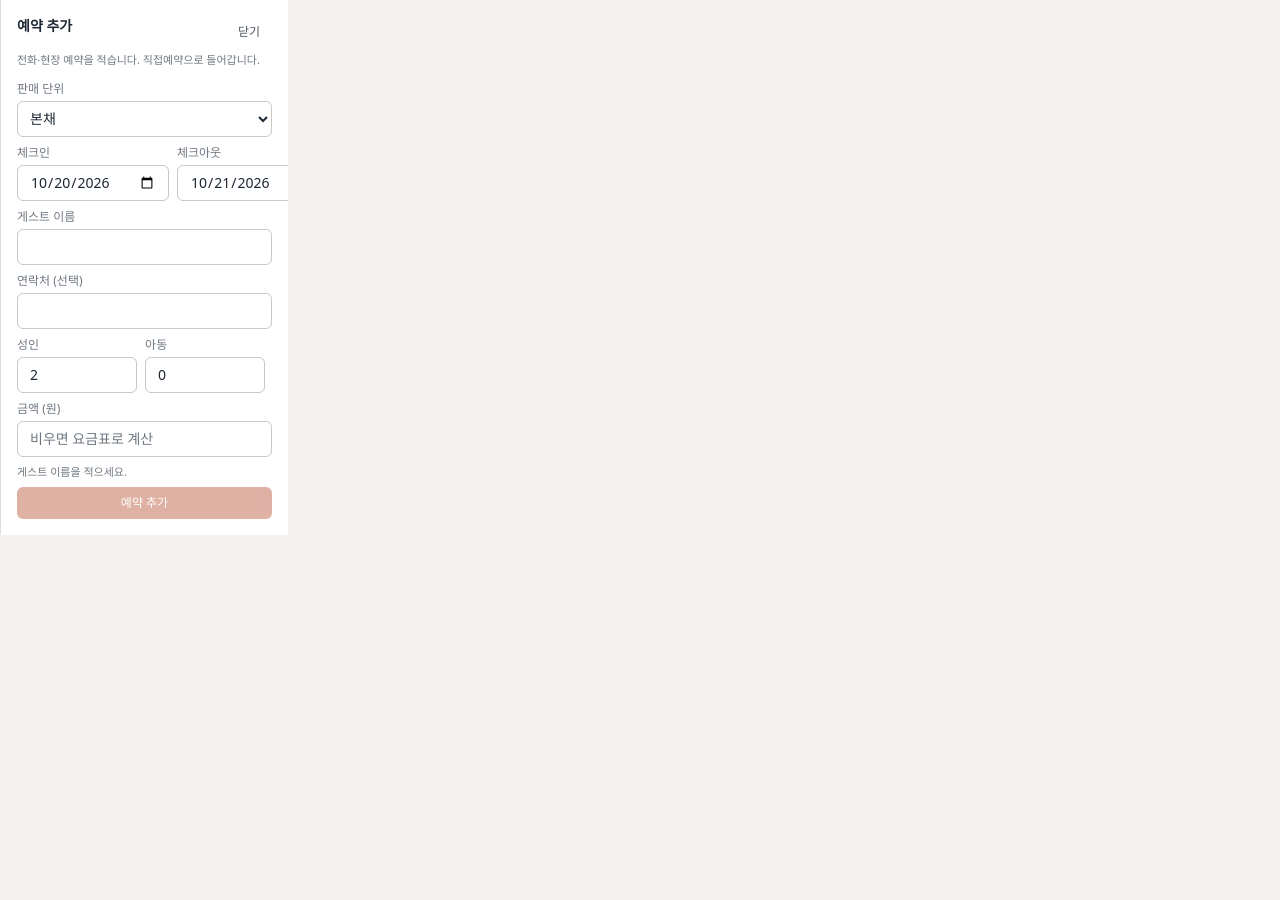
Test: 예약 추가 › 금액을 비우면 totalAmount null 로 보내고, 확인 단계 뒤에만 보낸다
Select "별채" in the dropdown with test id "new-reservation-unit": (144, 118) [17, 100, 272, 136]
In the date field with test id "new-reservation-check-in": (93, 182) [17, 164, 169, 200], type "2027-03-05"
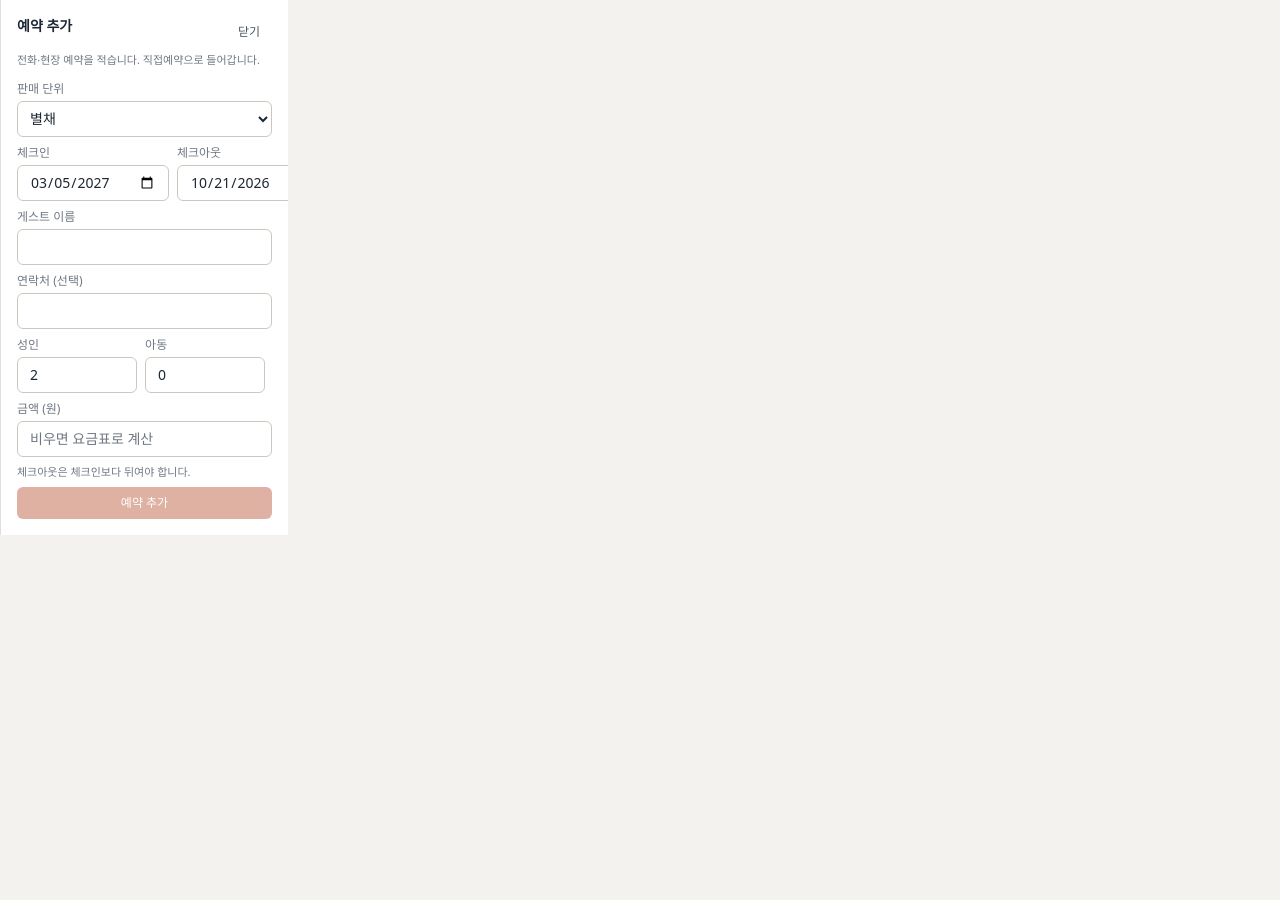
In the date field with test id "new-reservation-check-out": (253, 182) [177, 164, 329, 200], type "2027-03-07"
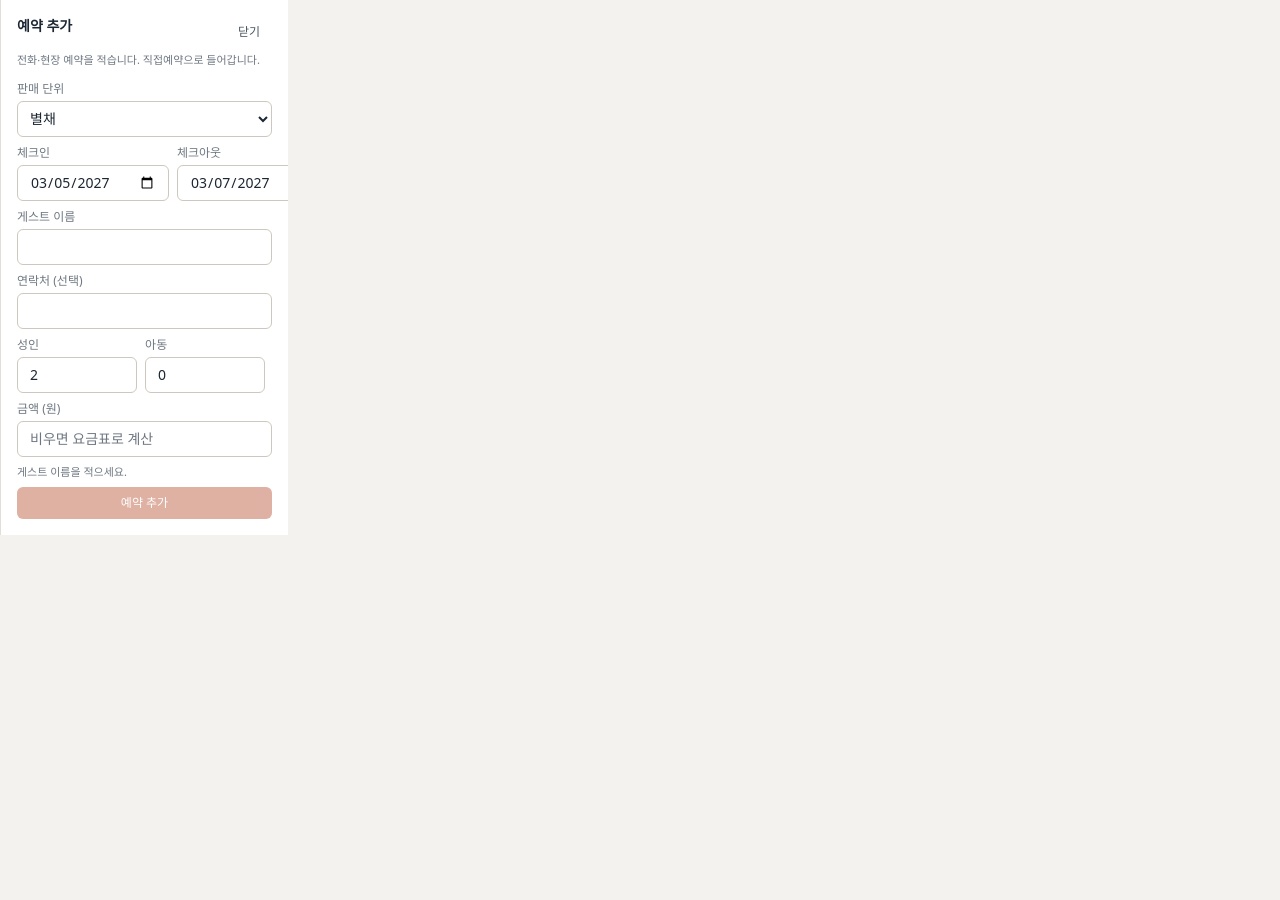
In the field with test id "new-reservation-guest": (144, 246) [17, 228, 272, 264], type " 전화 손님 "
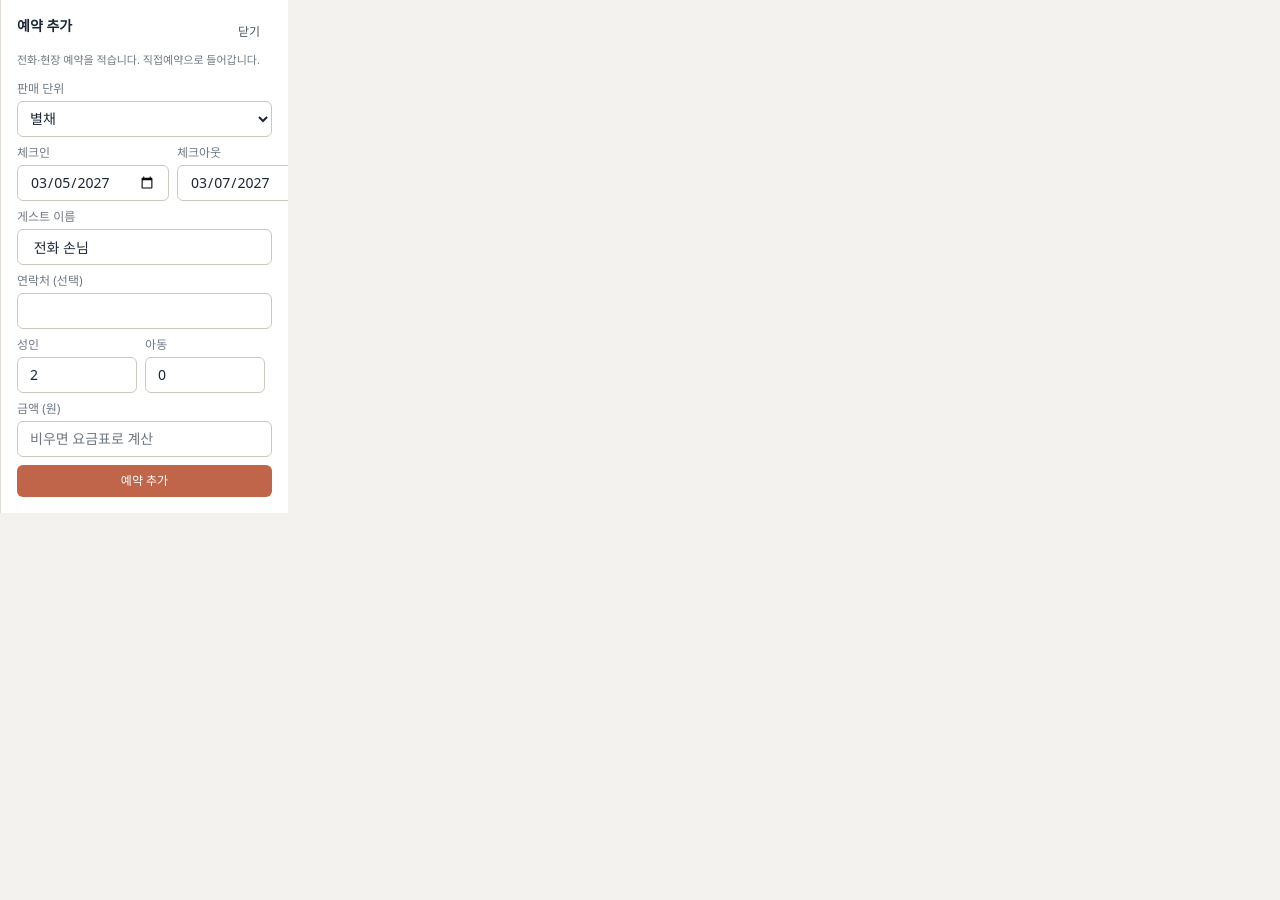
Replace the text in the number field with test id "new-reservation-adults" with "3": (77, 374) [17, 356, 137, 392]
Replace the text in the number field with test id "new-reservation-children" with "1": (205, 374) [145, 356, 265, 392]
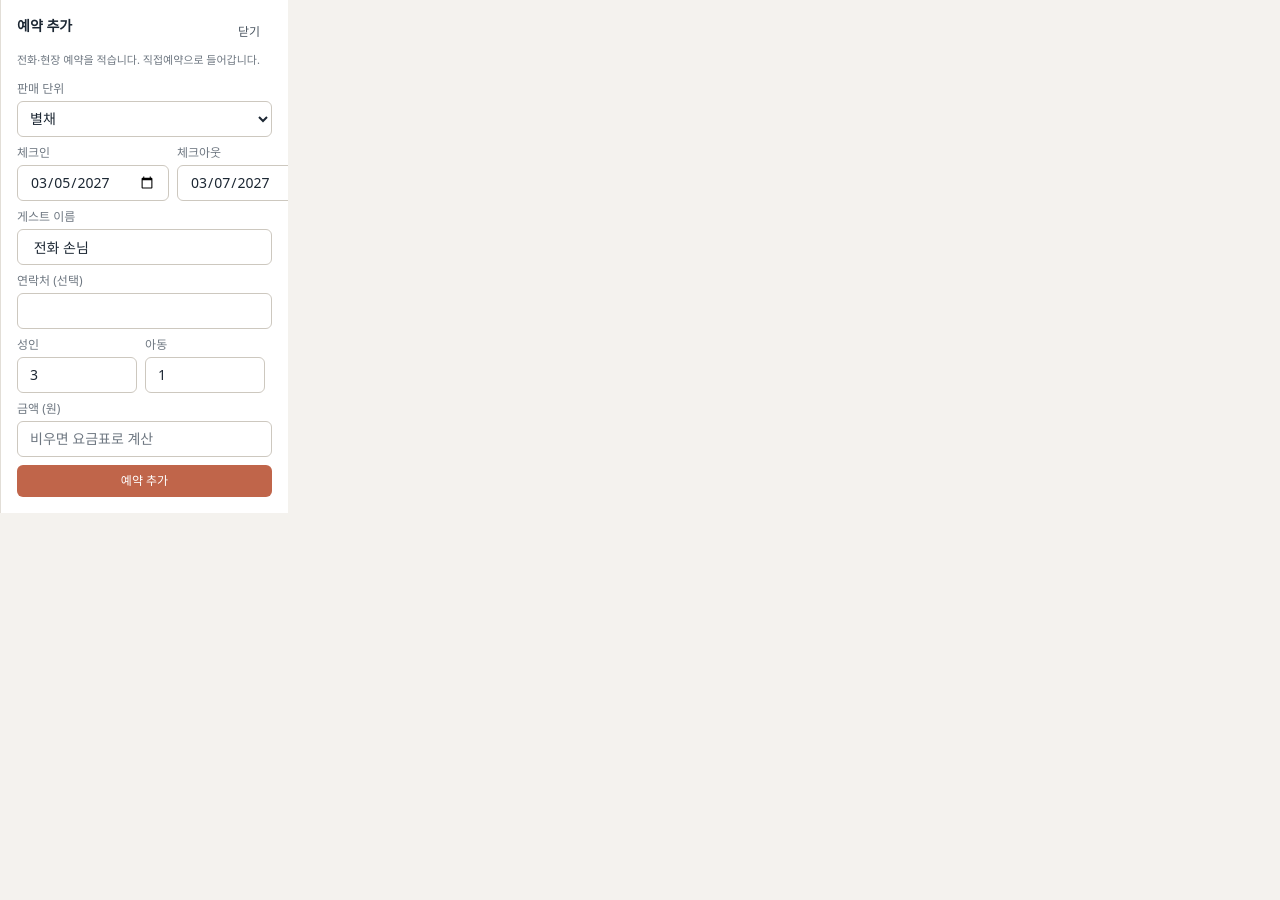
Click the button with test id "new-reservation-submit": click(144, 480) [17, 464, 272, 496]
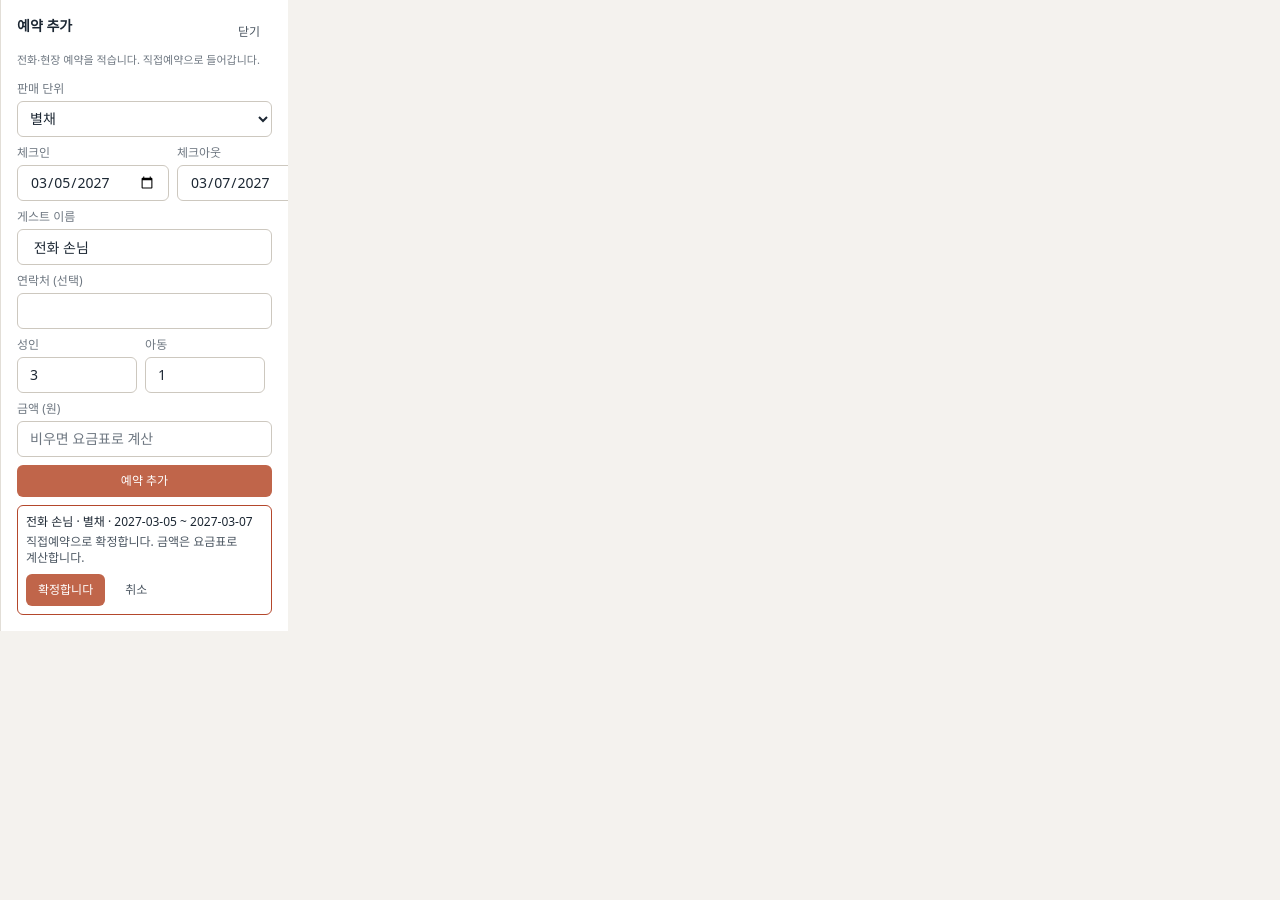
Expected: the dialog with test id "new-reservation-confirm" shows "요금표로 계산합니다", [26, 532, 237, 566]
Click the button with test id "new-reservation-confirm-button": click(66, 590) [26, 574, 105, 606]
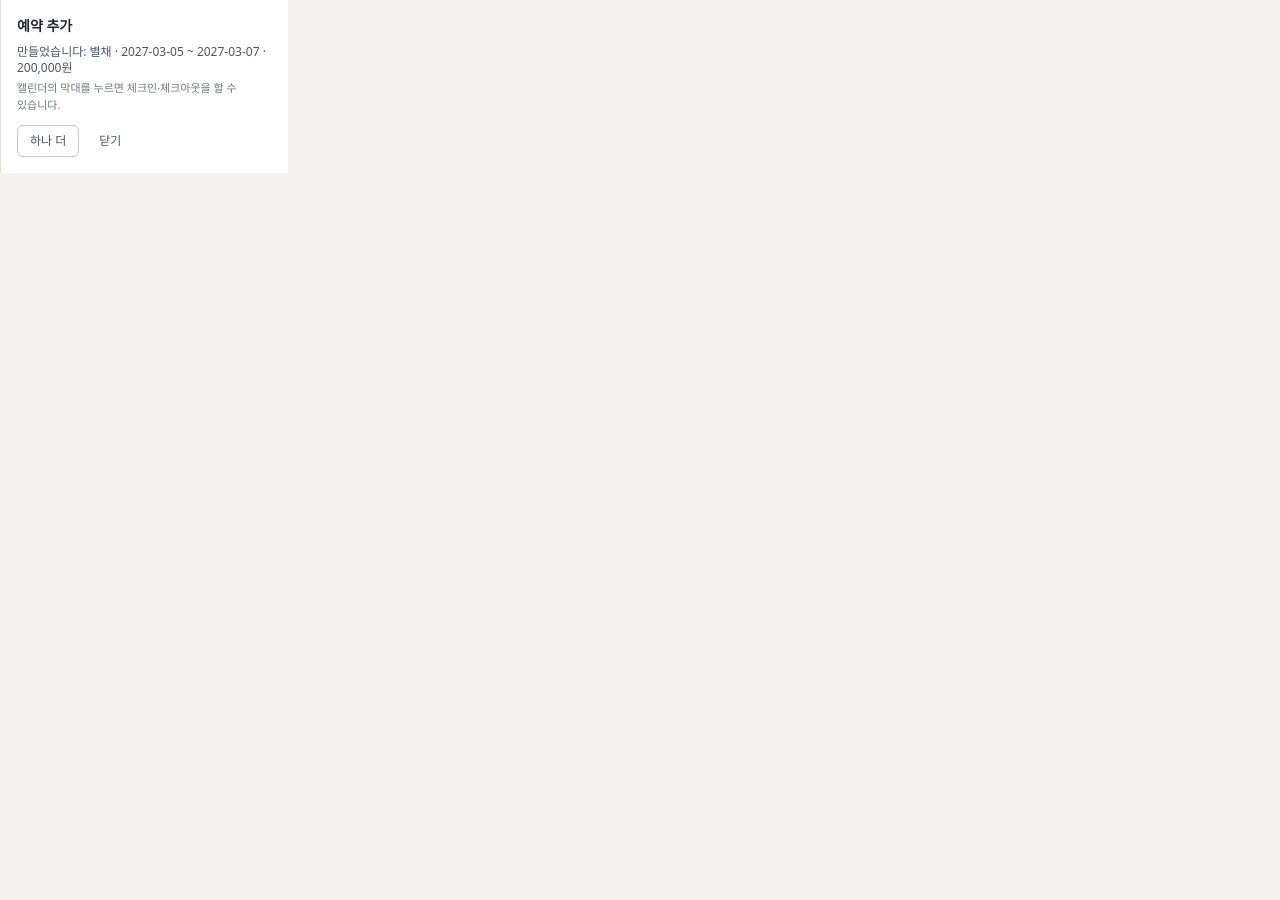
Expected: the message with test id "new-reservation-done" shows "200,000원", [17, 43, 266, 76]
